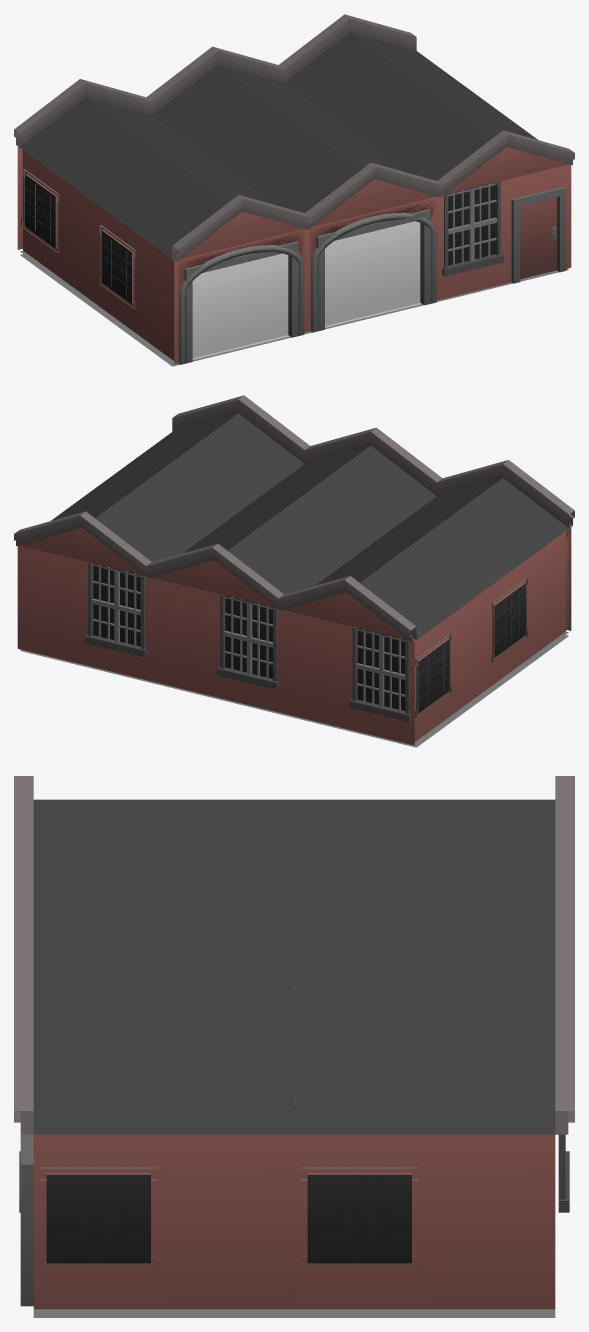
The model's file is foundry-warehouse.glb.
3 views of the same model, one above another, from view 1: azimuth 30°, elevation 25°; view 2: azimuth 150°, elevation 25°; view 3: azimuth 270°, elevation 25° (orthographic). The views are drawn at different scales.
Parts seen in each view (by area): view 1: TreyIndustrialFoundryWarehouseVisual; view 2: TreyIndustrialFoundryWarehouseVisual; view 3: TreyIndustrialFoundryWarehouseVisual.
Boxes of the visible parts, <box> form: TreyIndustrialFoundryWarehouseVisual: <box>14,14,574,366</box>; TreyIndustrialFoundryWarehouseVisual: <box>14,395,574,747</box>; TreyIndustrialFoundryWarehouseVisual: <box>14,776,574,1317</box>.
Bounding box in the file's own units: 12 × 4.5 × 8.6.
Materials: 1 (1 with a texture image).
